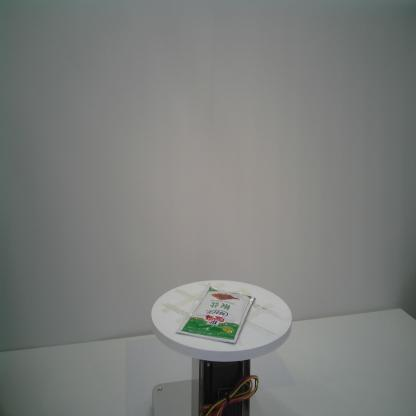Seasoner: (174, 282, 256, 344)
